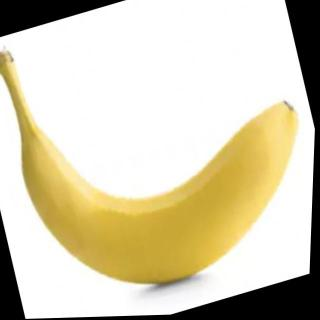banana: (6, 51, 318, 320)
